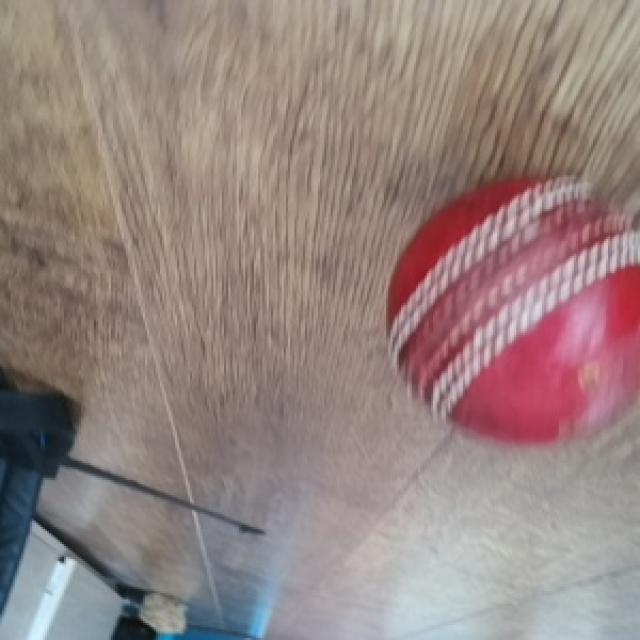ball: (386, 175, 640, 450)
